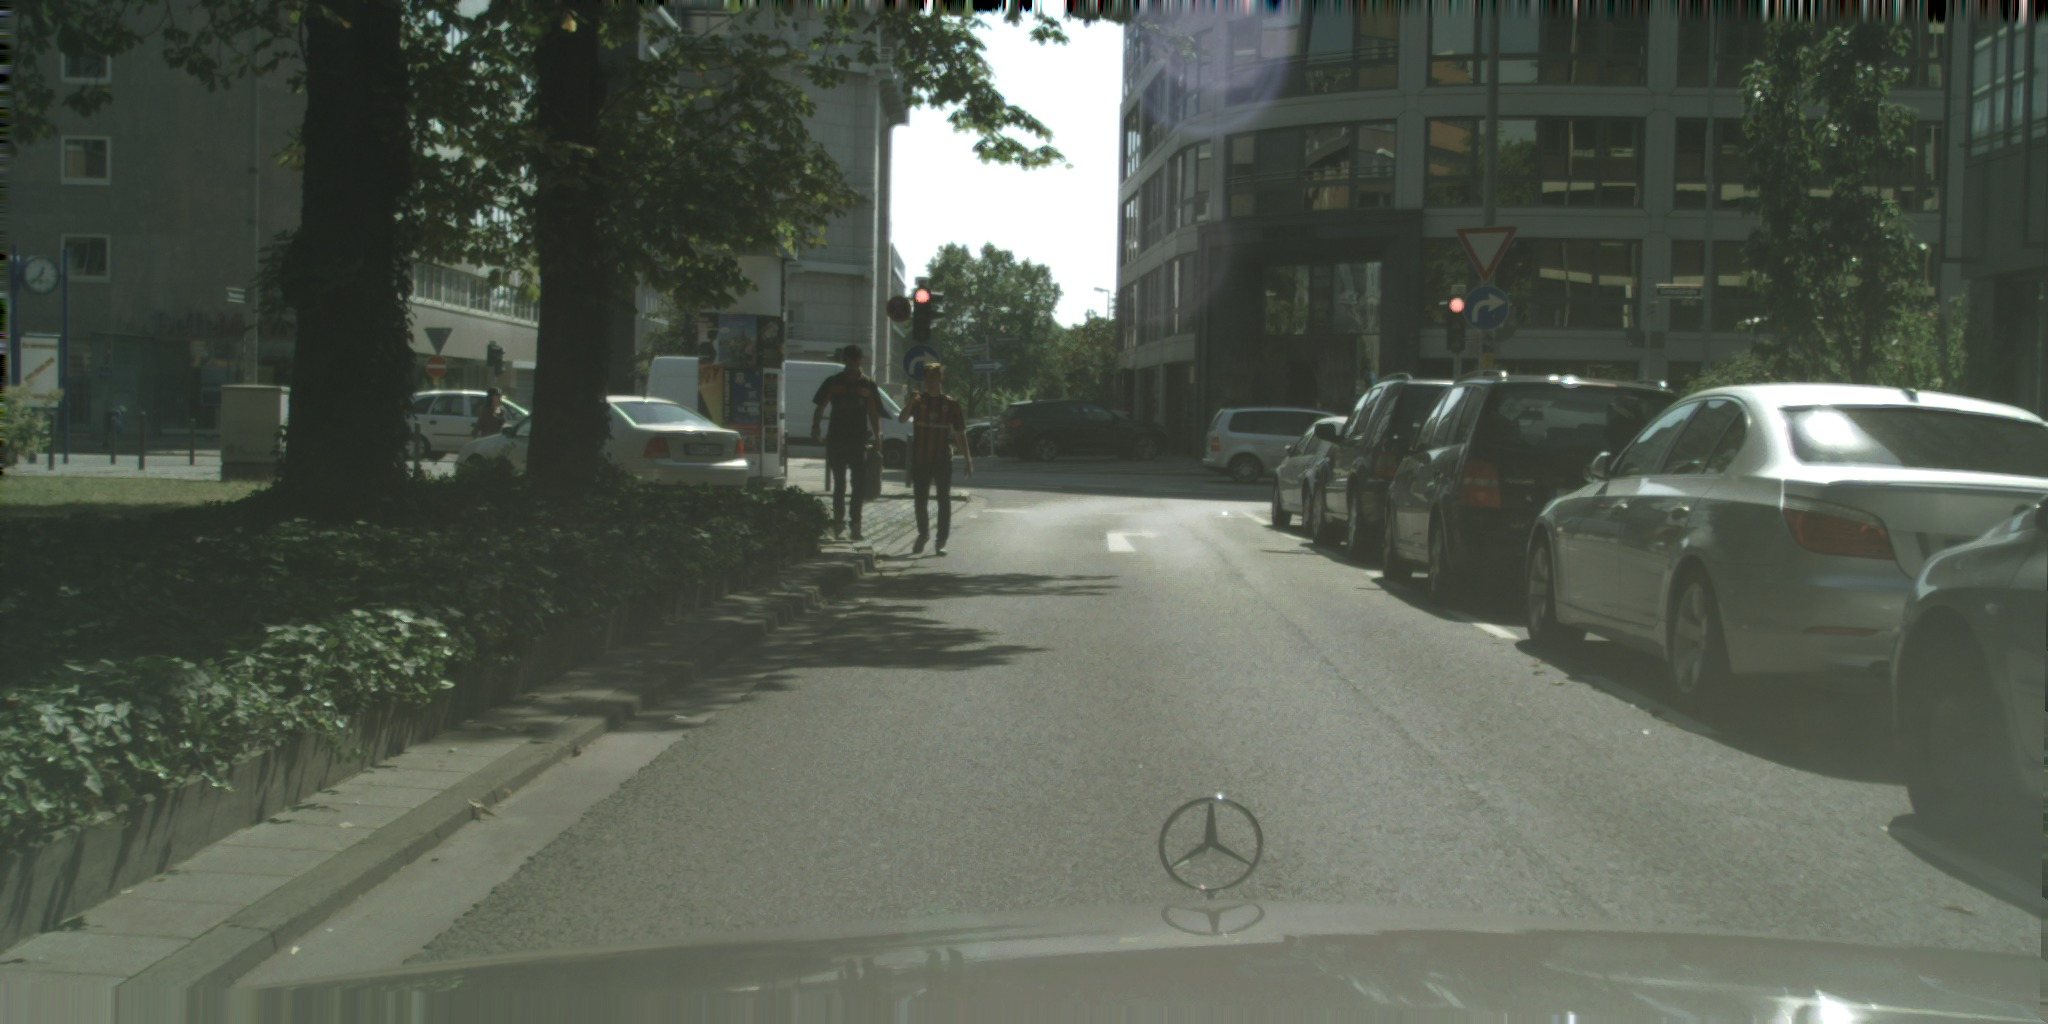car: (1524, 382, 2047, 712), (1381, 369, 1699, 605), (1889, 497, 2047, 834), (1311, 373, 1567, 559), (645, 356, 922, 468), (455, 395, 749, 491), (1272, 416, 1422, 535), (993, 399, 1169, 462), (1203, 406, 1339, 484), (394, 389, 532, 460), (948, 422, 996, 455), (980, 418, 1019, 456), (1104, 409, 1129, 420)
person: (899, 362, 973, 556), (812, 344, 883, 539), (472, 387, 505, 447)
